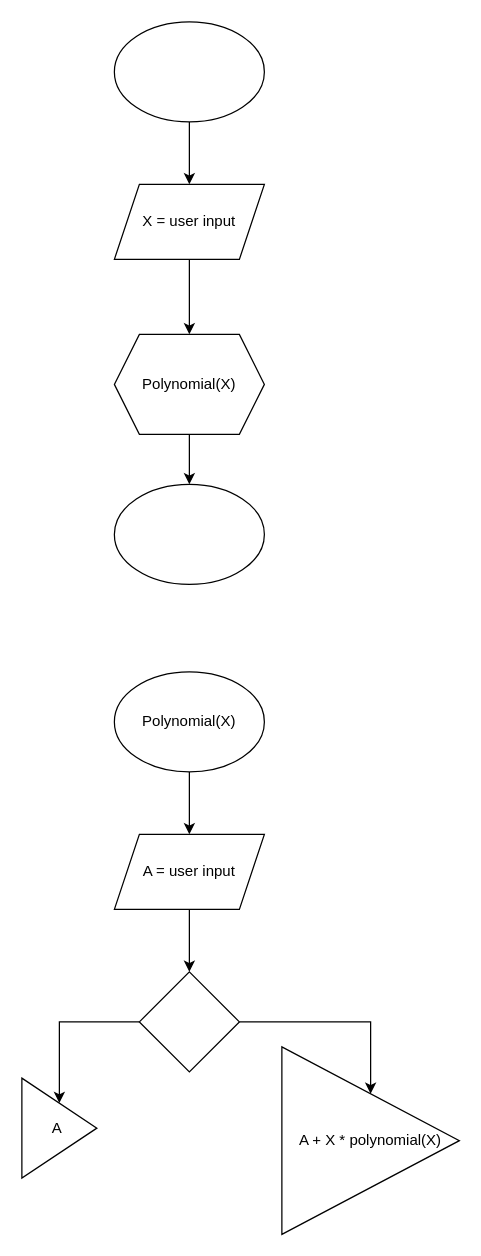
This 481x1256 diagram has some shape labels left out. The centre of each missing label's shape, as x and y in pixels:
"continue?" belongs at (x=188, y=1021).
"Start" belongs at (x=188, y=71).
"Stop" belongs at (x=188, y=533).
